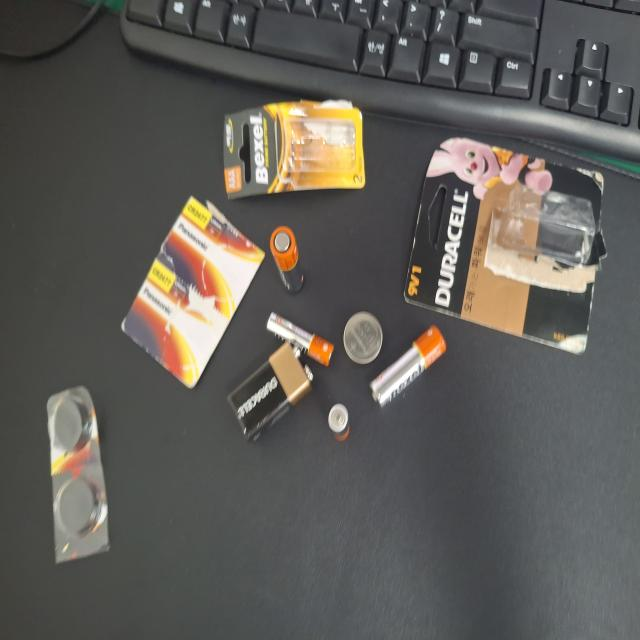9V: (330, 299, 406, 487), (149, 304, 223, 417)
AA: (176, 493, 236, 594), (261, 360, 310, 405)
AAA: (206, 356, 246, 445), (150, 437, 177, 465)
COIN: (207, 458, 246, 510)
